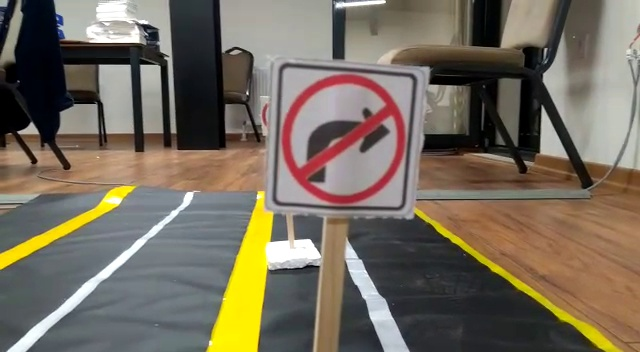saga_donulmez: (277, 66, 407, 211)
